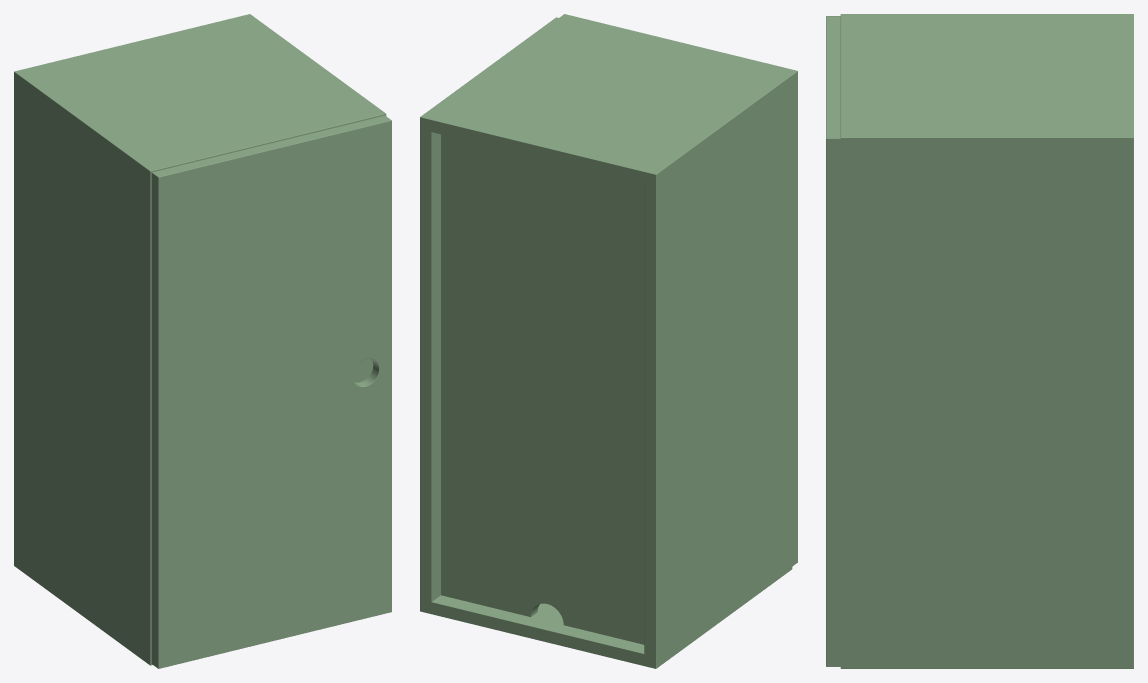
Rendered from MOD-1X2-D-B-DER-AP-SA.glb.
3 renders of one model, left to right at view 1: azimuth 30°, elevation 25°; view 2: azimuth 150°, elevation 25°; view 3: azimuth 270°, elevation 25°, orthographic. The views are drawn at different scales.
Bounding box in the file's own units: 360 × 720 × 378.
